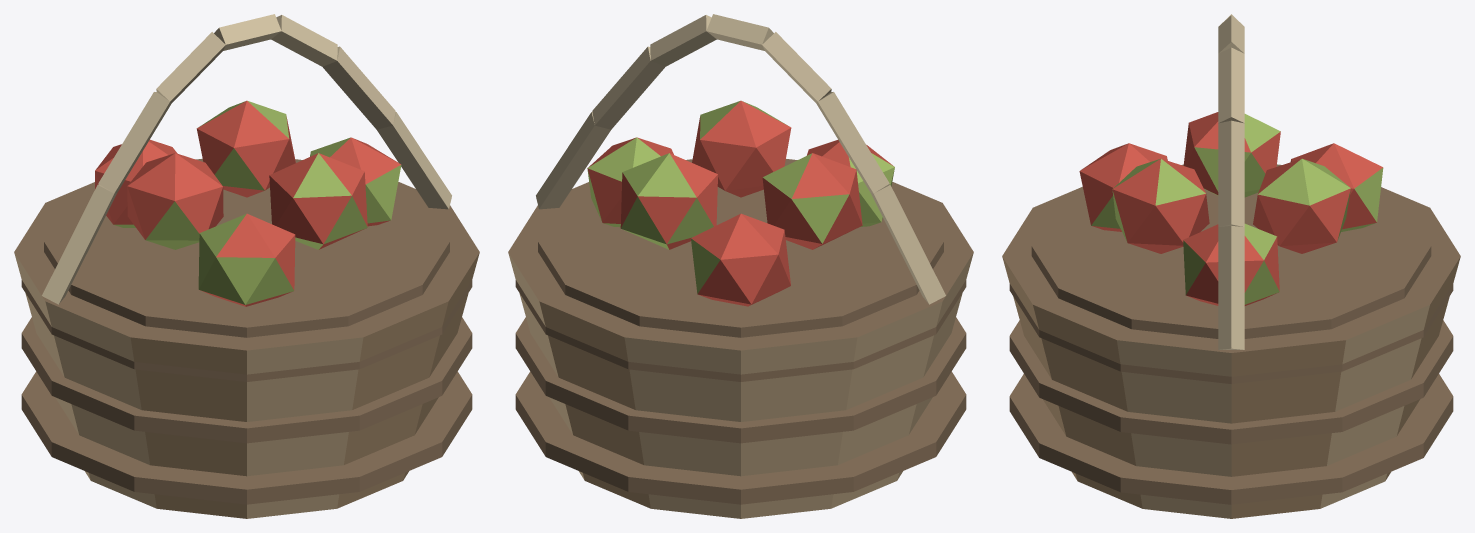
File: apple_basket.glb
3 renders of one model, left to right at view 1: azimuth 30°, elevation 25°; view 2: azimuth 150°, elevation 25°; view 3: azimuth 270°, elevation 25°, orthographic.
Visible parts, largest first — view 1: apple_basket; view 2: apple_basket; view 3: apple_basket.
Boxes of the visible parts, box(x1,y1,x2,y2) form: apple_basket: box(14, 14, 479, 518); apple_basket: box(508, 14, 973, 518); apple_basket: box(1002, 14, 1460, 518).
Size of the model in its own units: 0.6309 by 0.6197 by 0.62.
